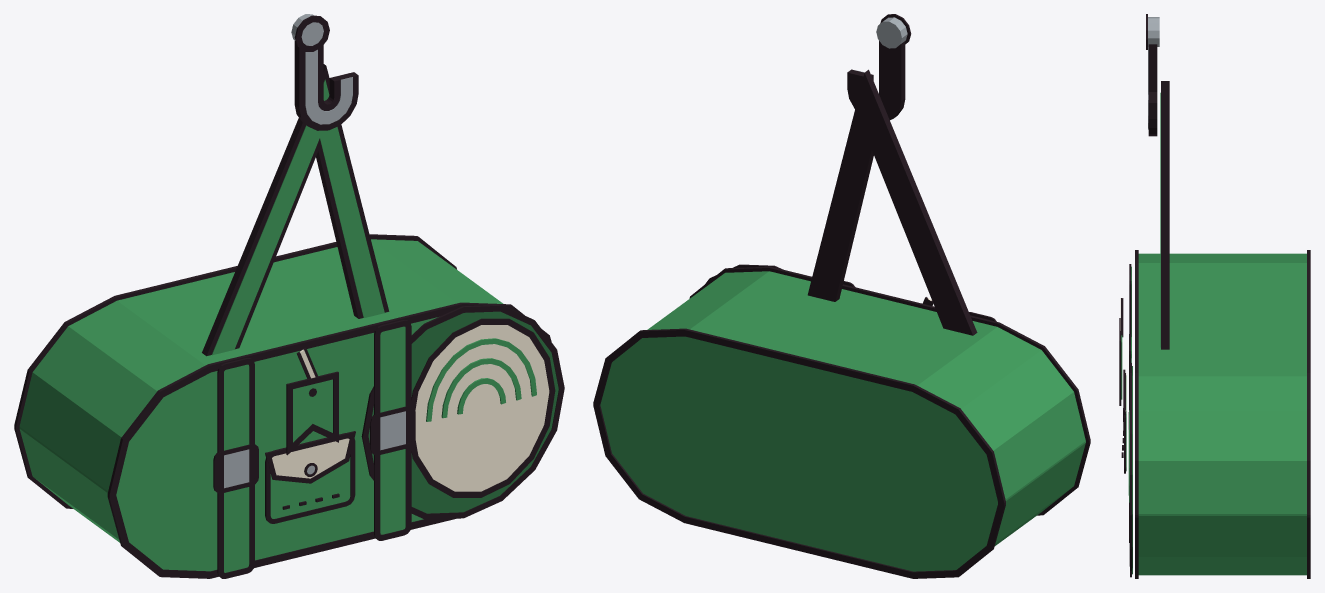
The picture shows the model from 3 angles, left to right: view 1: azimuth 30°, elevation 25°; view 2: azimuth 150°, elevation 25°; view 3: azimuth 270°, elevation 25°; orthographic projection. The views are drawn at different scales.
Parts seen in each view (by area): view 1: Bag Holders proposal; view 2: Bag Holders proposal; view 3: Bag Holders proposal.
Part boxes in pixels (x1,y1,x2,y2): Bag Holders proposal: (14,14,564,578); Bag Holders proposal: (593,14,1090,578); Bag Holders proposal: (1119,14,1310,578).
Size of the model in its own units: 0.8816 by 0.9883 by 0.35.
